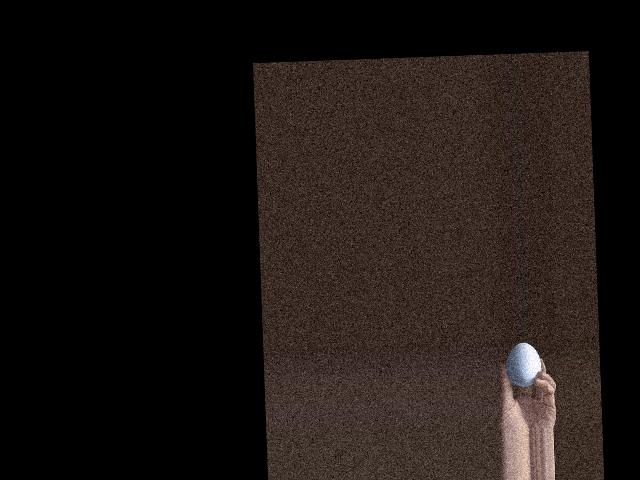egg: (506, 341, 542, 386)
